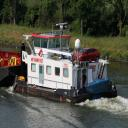tugboat: (12, 23, 119, 107)
